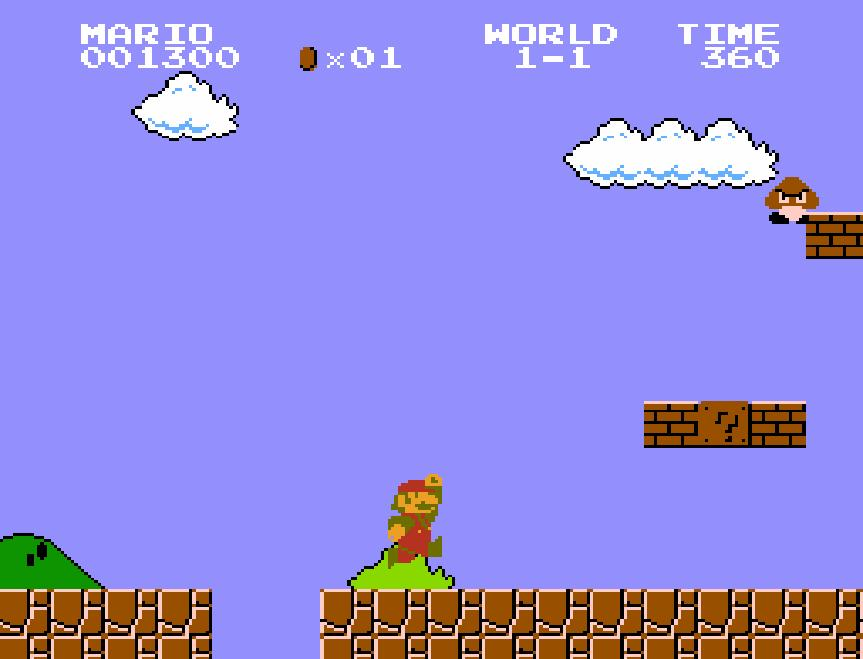big_mario: (386, 472, 444, 570)
